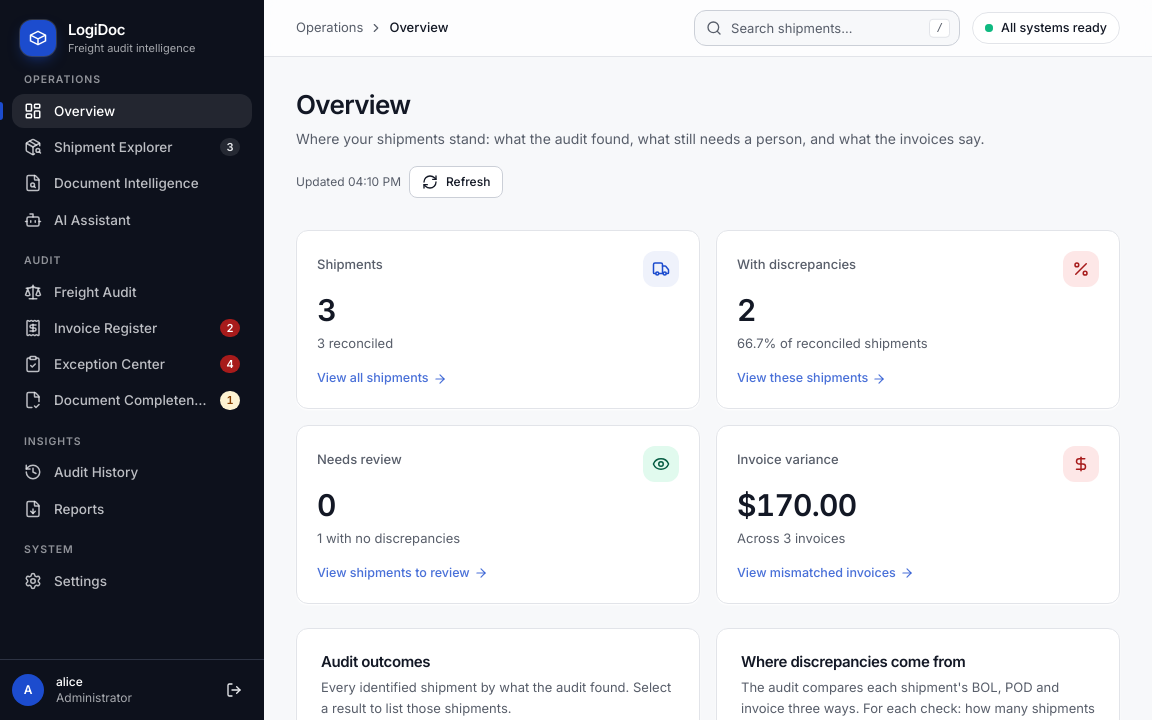
it: Application shell › finds a shipment from the search box in the top bar
The image size is (1152, 720).
Type "SHJ-2026-001" into the field named "Find a shipment" at (827, 28), box [694,10,960,46]
Then press Enter
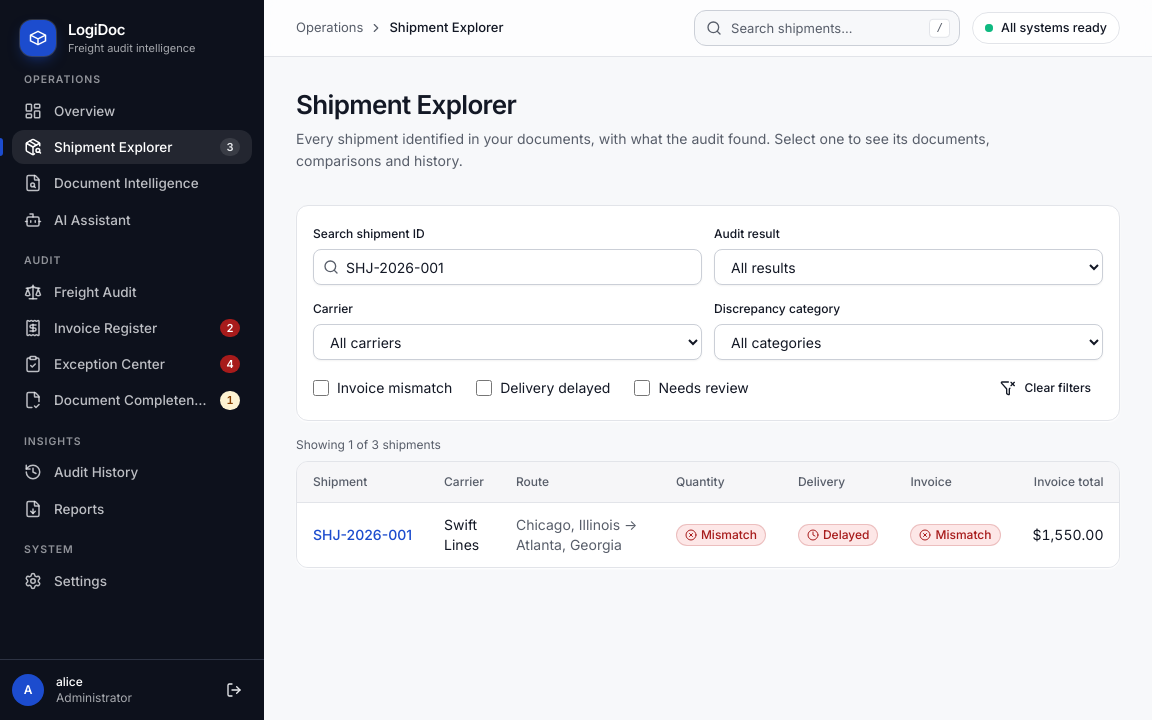
Result: the heading "Shipment Explorer" is shown at [296,89,516,120]
